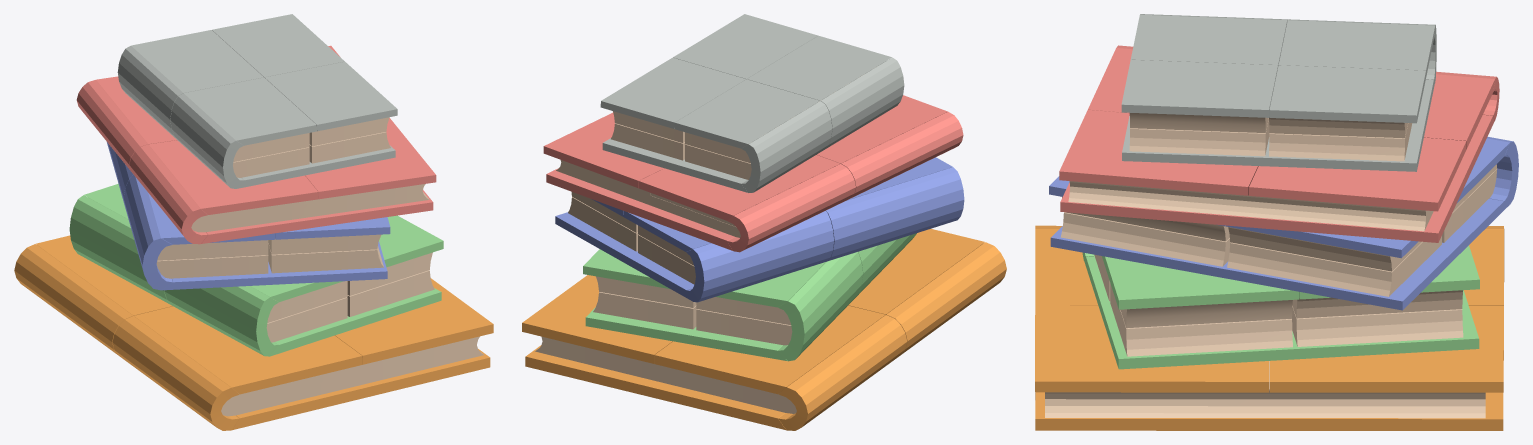
File: Level_P_15.fbx
3 views of the same model, side by side, from view 1: azimuth 30°, elevation 25°; view 2: azimuth 150°, elevation 25°; view 3: azimuth 270°, elevation 25° (orthographic). The views are drawn at different scales.
Parts seen in each view (by area): view 1: Cube_15.104, Cube_15.100, Cube_15.103, Cube_15.007, Cube_15.012, Cube_15.101, Cube_15.014, Cube_15.022, Cube_15.017, Cube_15.085, Cube_15.086, Cube_15.009 (+38 smaller); view 2: Cube_15.069, Cube_15.071, Cube_15.105, Cube_15.101, Cube_15.022, Cube_15.017, Cube_15.100, Cube_15.104, Cube_15.007, Cube_15.106, Cube_15.012, Cube_15.034 (+35 smaller); view 3: Cube_15.103, Cube_15.106, Cube_15.024, Cube_15.022, Cube_15.007, Cube_15.009, Cube_15.072, Cube_15.017, Cube_15.102, Cube_15.012, Cube_15.087, Cube_15.004 (+33 smaller).
Part boxes in pixels (x1,y1,x2,y2): Cube_15.104: [134, 306, 362, 394]; Cube_15.100: [112, 316, 239, 430]; Cube_15.103: [335, 278, 493, 364]; Cube_15.007: [264, 61, 397, 131]; Cube_15.012: [184, 77, 316, 145]; Cube_15.101: [14, 244, 132, 355]; Cube_15.014: [148, 140, 318, 214]; Cube_15.022: [212, 14, 344, 77]; Cube_15.017: [131, 30, 263, 92]; Cube_15.085: [164, 286, 278, 356]; Cube_15.086: [69, 195, 170, 304]; Cube_15.009: [305, 118, 436, 199]; Cube_15.069: [826, 167, 964, 260]; Cube_15.071: [686, 211, 833, 302]; Cube_15.105: [654, 305, 885, 394]; Cube_15.101: [778, 315, 907, 430]; Cube_15.022: [600, 57, 746, 128]; Cube_15.017: [674, 79, 819, 148]; Cube_15.100: [886, 242, 1006, 354]; Cube_15.104: [848, 229, 984, 315]; Cube_15.007: [673, 14, 817, 79]; Cube_15.106: [522, 275, 672, 363]; Cube_15.012: [747, 35, 891, 100]; Cube_15.034: [727, 164, 855, 252]; Cube_15.103: [1035, 305, 1268, 392]; Cube_15.106: [1269, 305, 1503, 392]; Cube_15.024: [1249, 137, 1466, 211]; Cube_15.022: [1269, 65, 1425, 123]; Cube_15.007: [1121, 59, 1277, 117]; Cube_15.009: [1059, 110, 1258, 195]; Cube_15.072: [1050, 198, 1509, 310]; Cube_15.017: [1278, 20, 1434, 77]; Cube_15.102: [1035, 392, 1503, 430]; Cube_15.012: [1130, 14, 1287, 66]; Cube_15.087: [1084, 256, 1479, 369]; Cube_15.004: [1060, 115, 1494, 242].
Bounding box in the file's own units: 10.47 × 7.98 × 11.92.
